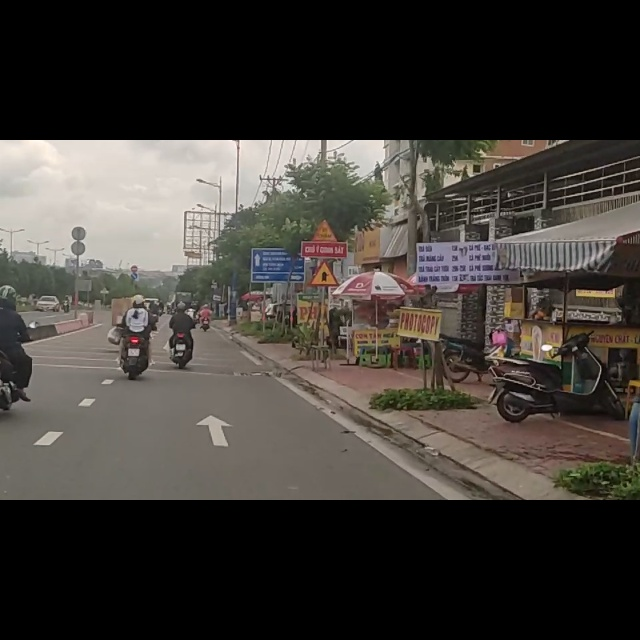bien_hieu_lenh: (309, 212, 340, 261), (311, 140, 340, 180)
